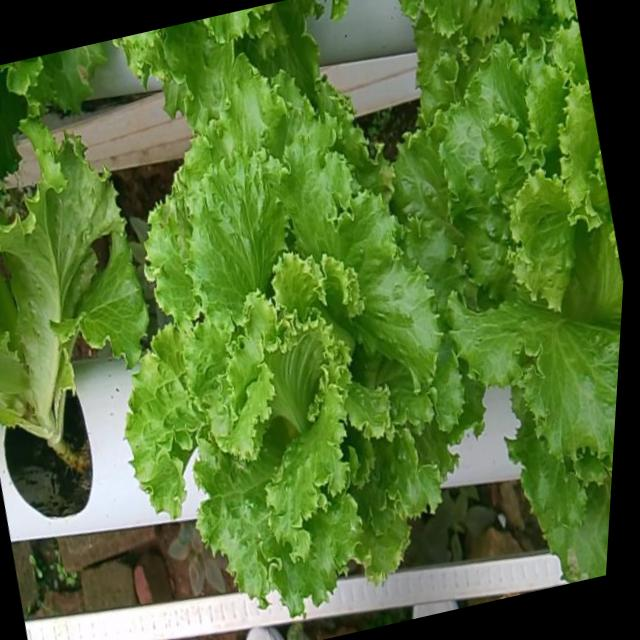Mature: (136, 82, 475, 622), (403, 51, 623, 479)
